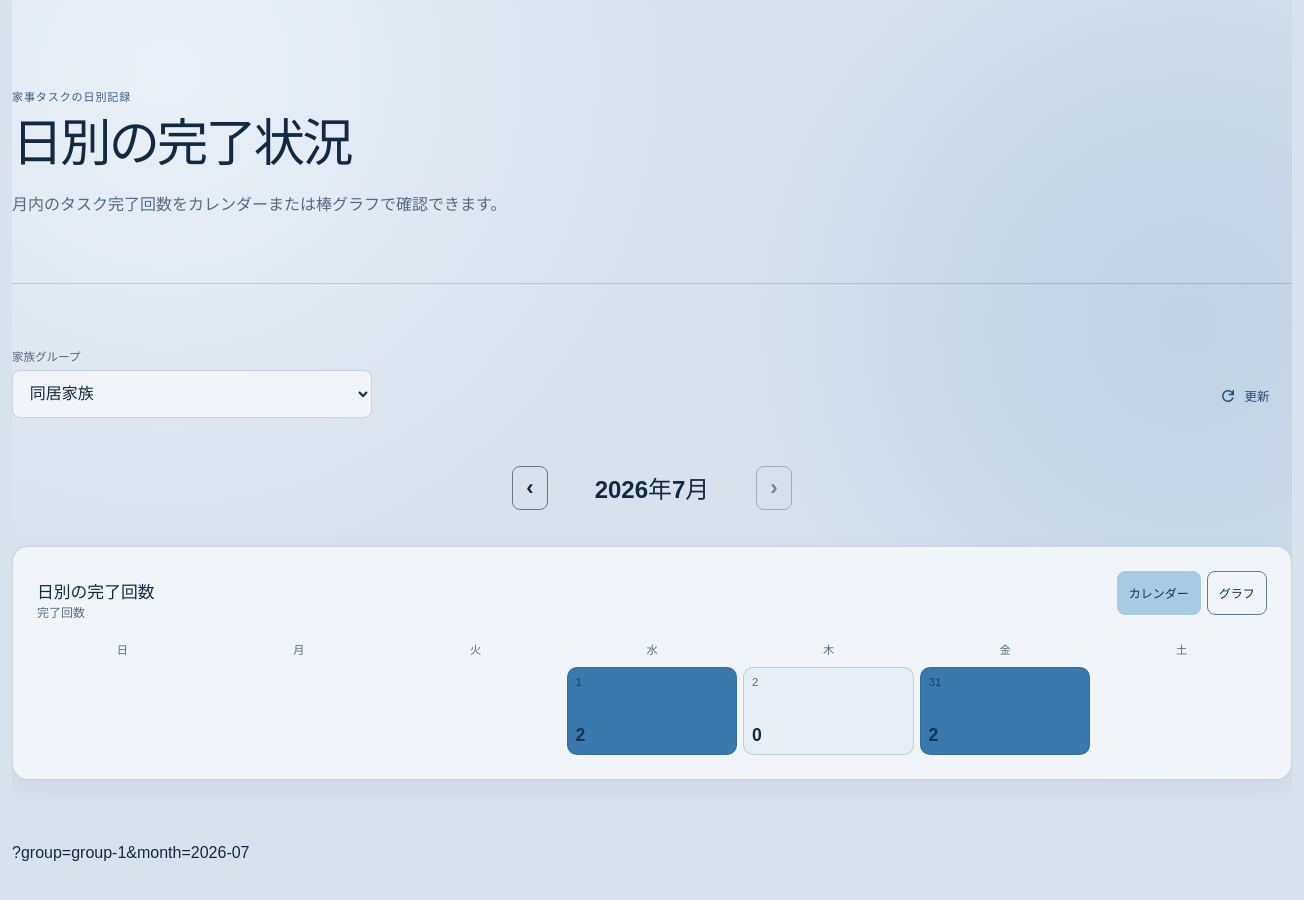
it: ChoreDailyPage › shows the bar chart and stores the selected view in the URL
The width and height of the screenshot is (1304, 900).
Click the button "グラフ": (1237, 593) [1207,571,1267,615]
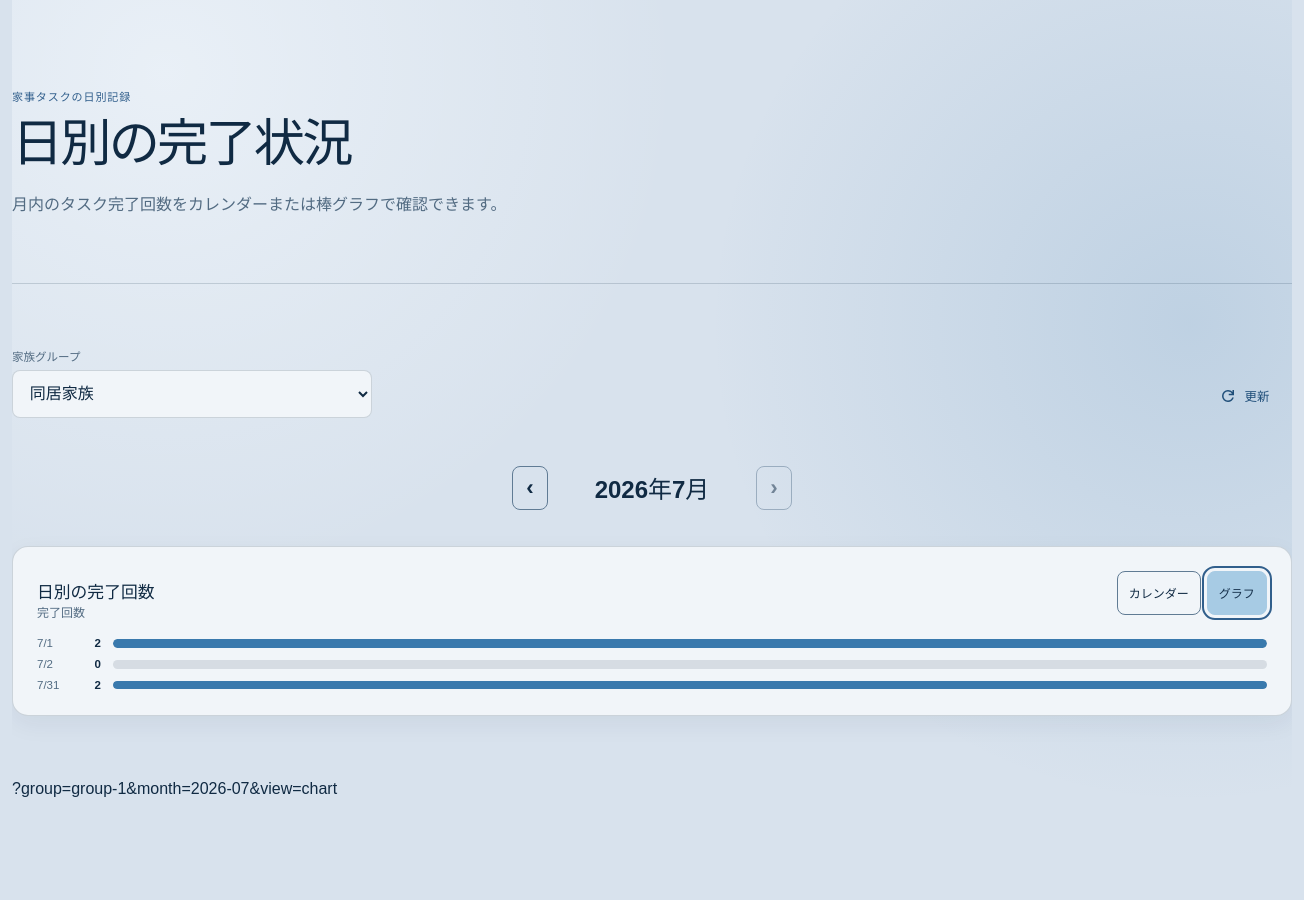
Check: the list is shown, box [37,637,1267,691]
Check: the text named "current search" reads "?group=group-1&month=2026-07&view=chart", box [12,780,337,797]
